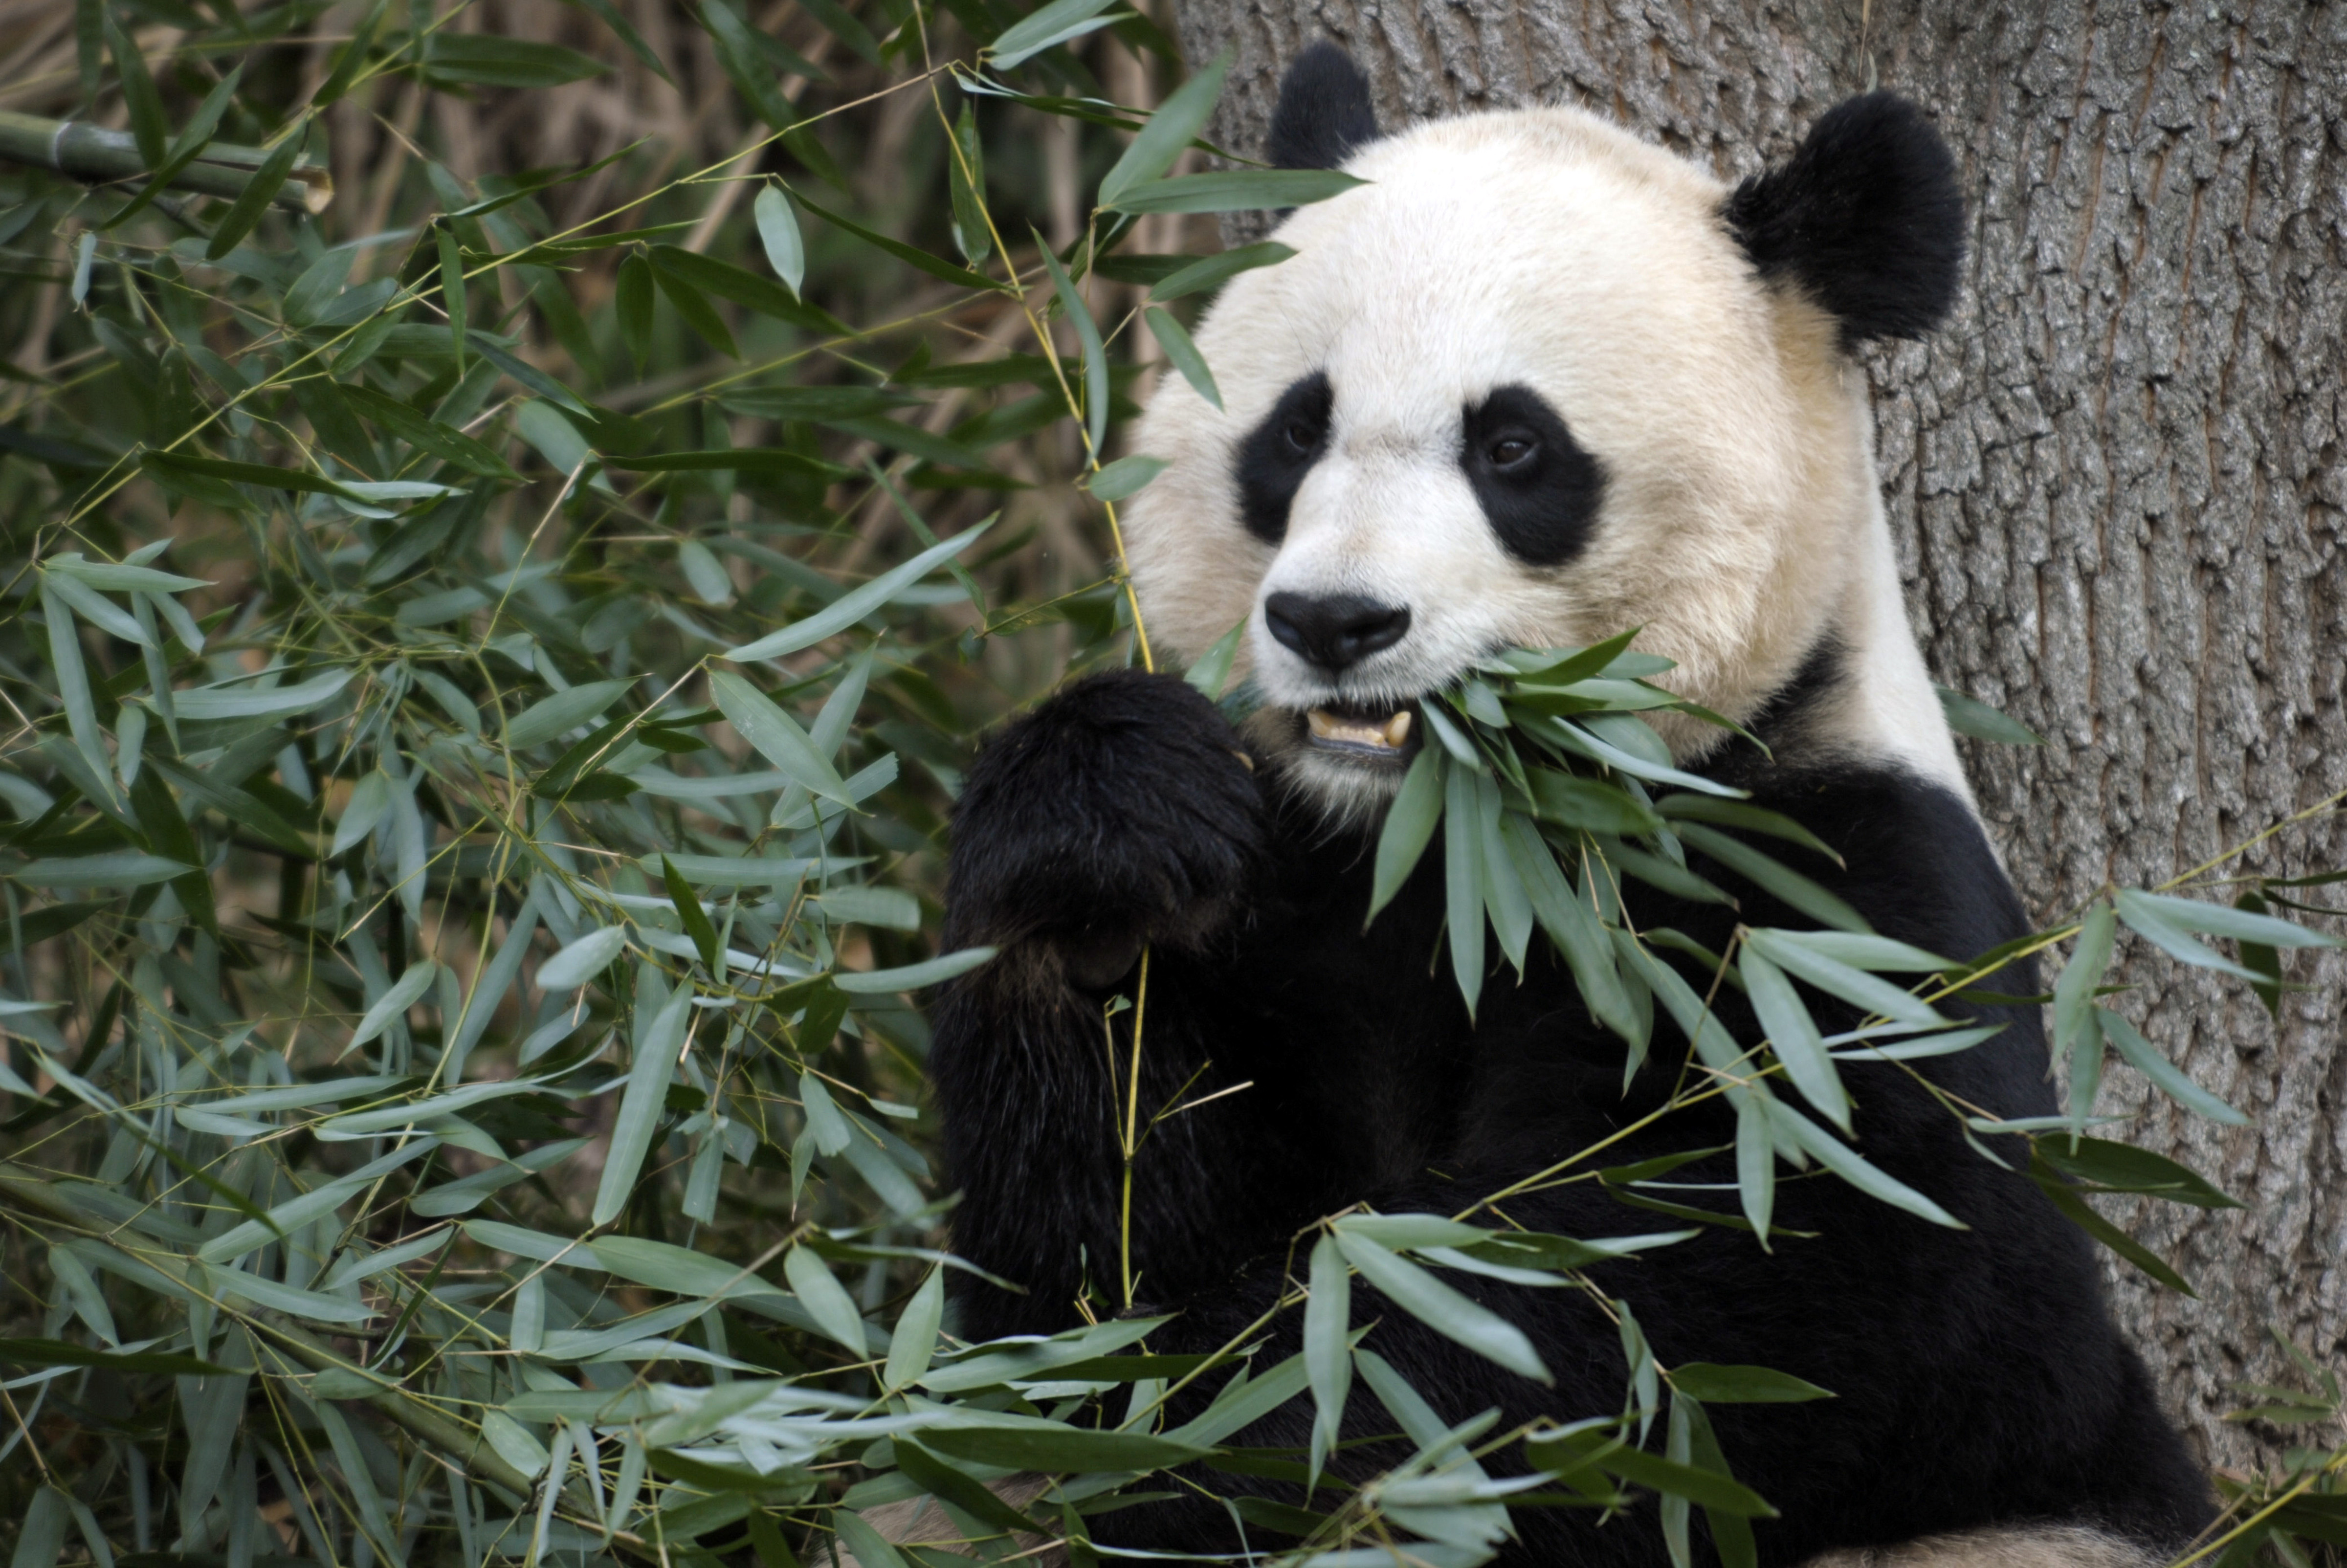panda: (910, 52, 2203, 1536)
